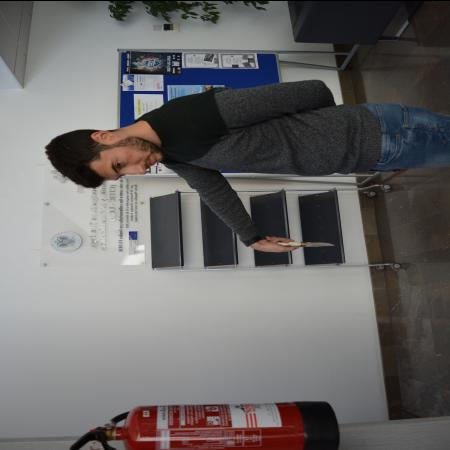long weapon: (266, 237, 340, 248)
